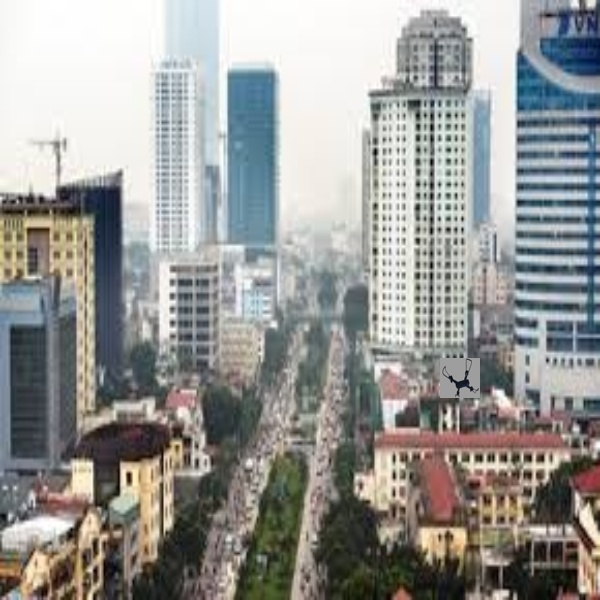drone: (441, 357, 480, 396)
